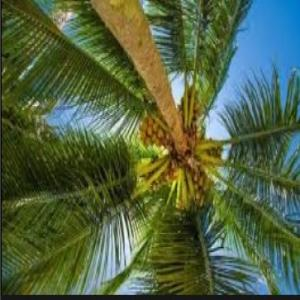palm tree: (1, 0, 299, 295)
